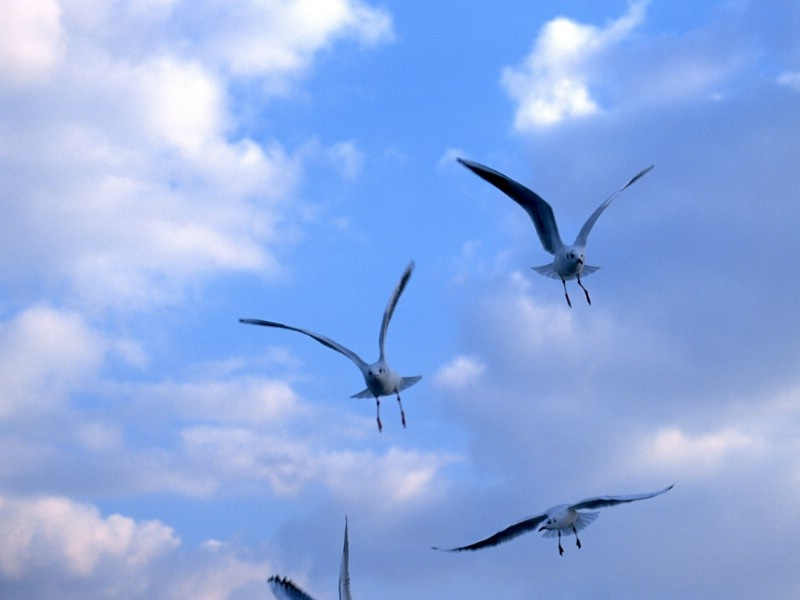bird: (216, 259, 435, 435), (464, 157, 659, 309), (436, 483, 677, 554)
